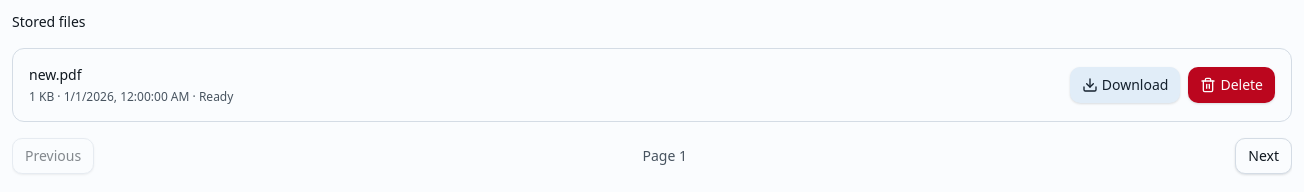
Scenario: loads older files and allows returning to the first page
The image size is (1304, 192).
Expected: the text "new.pdf" is shown, [29,65,82,84]
Click the button "Next".
click(1264, 156)  # box [1235,138,1292,174]
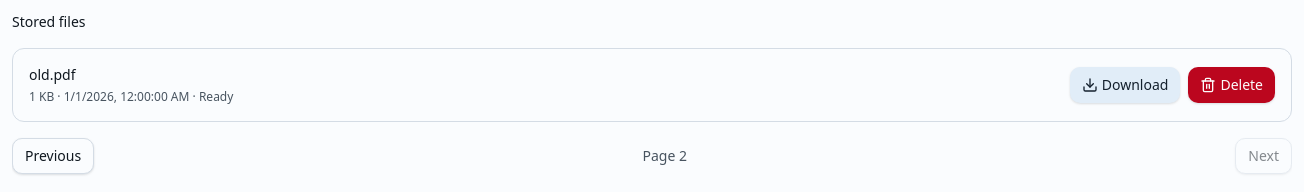
Expected: the text "old.pdf" is shown, [29,65,76,84]
Expected: the button "Next" is disabled, [1235,138,1292,174]
Click the button "Previous".
click(53, 156)  # box [12,138,94,174]
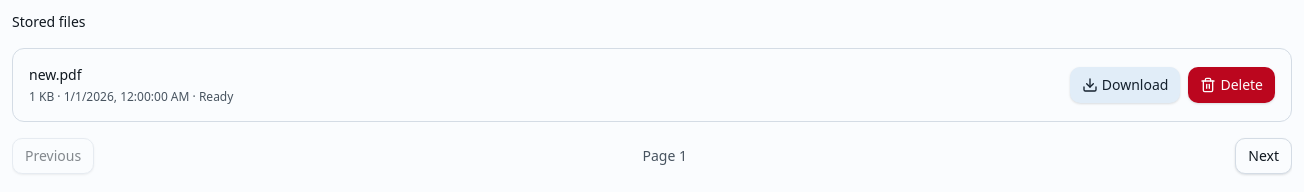
Expected: the text "new.pdf" is shown, [29,65,82,84]
